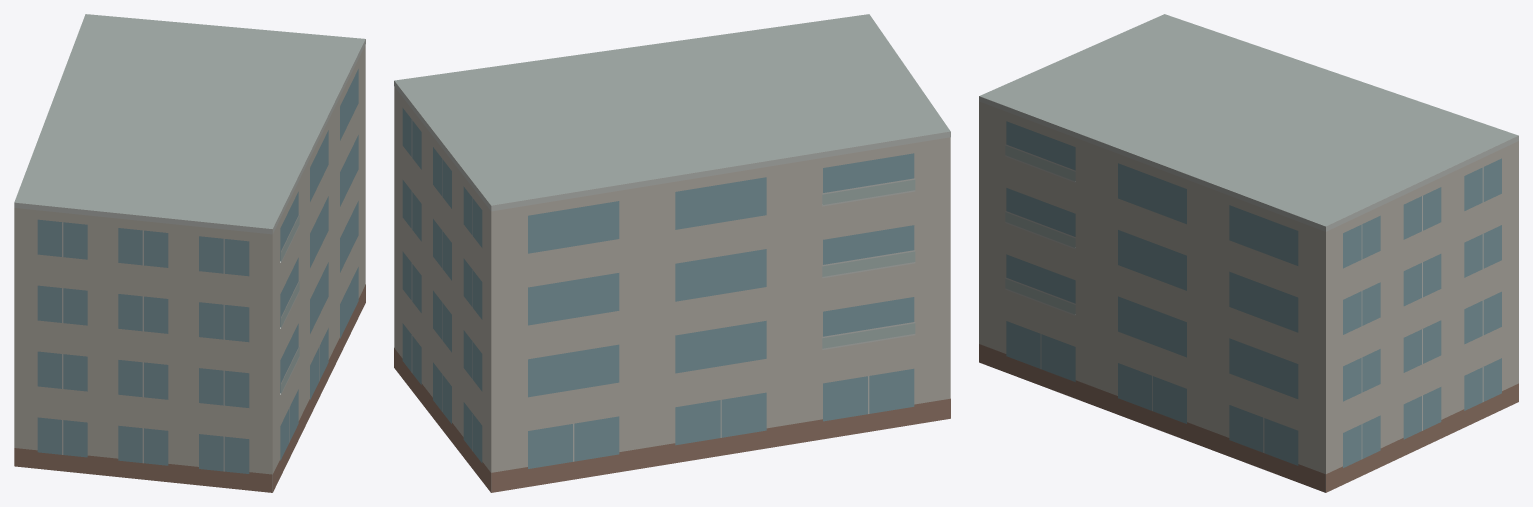
File: survey-upis-32642392.glb
The picture shows the model from 3 angles, left to right: view 1: azimuth 30°, elevation 25°; view 2: azimuth 150°, elevation 25°; view 3: azimuth 270°, elevation 25°; orthographic projection. The views are drawn at different scales.
Visible parts, largest first — view 1: survey-upis-32642392.tmp; view 2: survey-upis-32642392.tmp; view 3: survey-upis-32642392.tmp.
Boxes of the visible parts, left/top/right/bottom form: survey-upis-32642392.tmp: left=14, top=14, right=365, bottom=492; survey-upis-32642392.tmp: left=394, top=14, right=950, bottom=492; survey-upis-32642392.tmp: left=979, top=14, right=1518, bottom=492.
Bounding box in the file's own units: 20.89 × 12.2 × 22.42.
